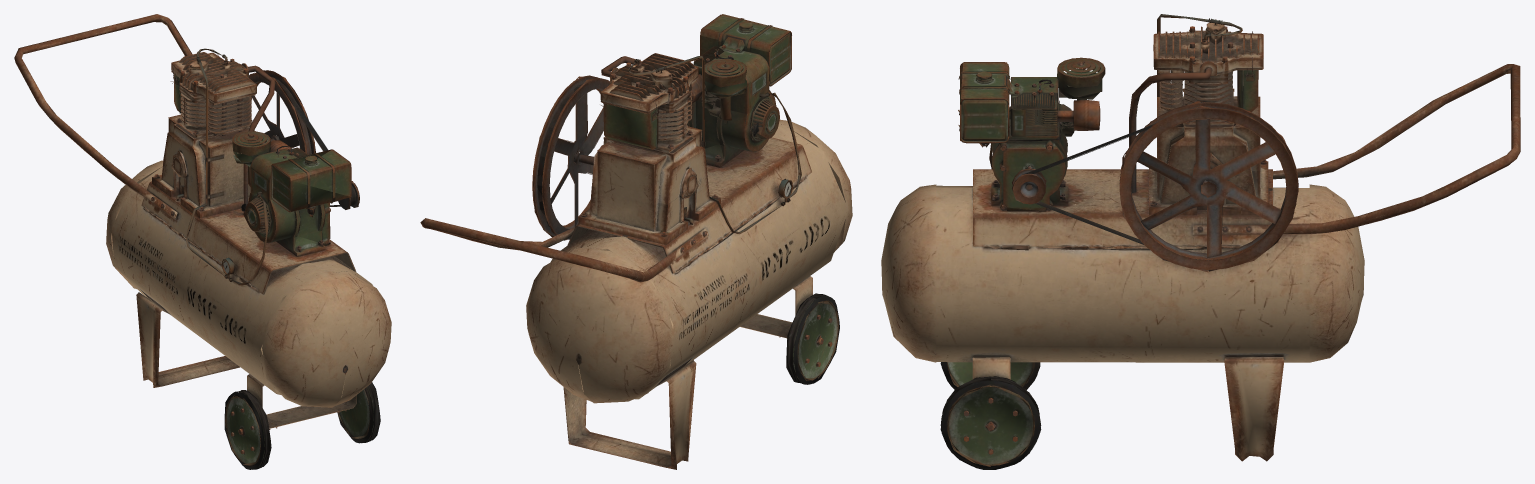
Rendered from compressor.glb.
3 views of the same model, side by side, from view 1: azimuth 30°, elevation 25°; view 2: azimuth 150°, elevation 25°; view 3: azimuth 270°, elevation 25° (orthographic). The views are drawn at different scales.
Parts seen in each view (by area): view 1: compressor; view 2: compressor; view 3: compressor.
Part boxes in pixels (bbox=[...]): compressor: bbox=[14, 14, 391, 469]; compressor: bbox=[420, 14, 852, 469]; compressor: bbox=[881, 14, 1520, 469].
Size of the model in its own units: 0.6009 by 1.18 by 1.67.
Materials: 2 (2 with a texture image).
